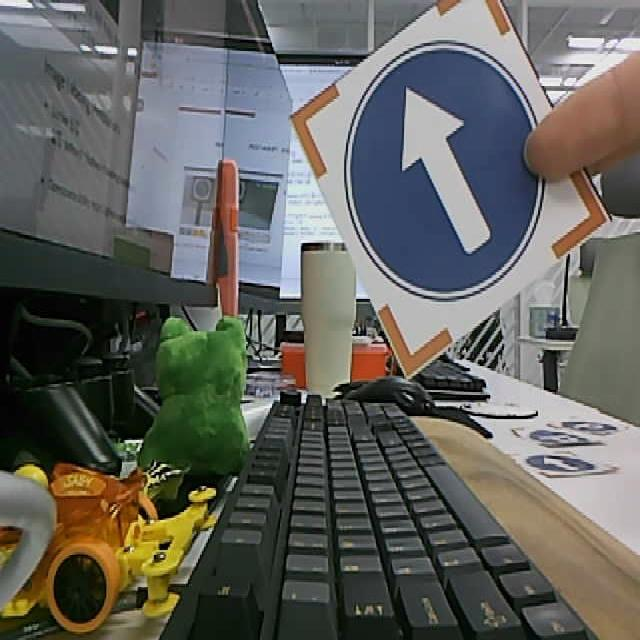straight: (288, 1, 610, 383)
